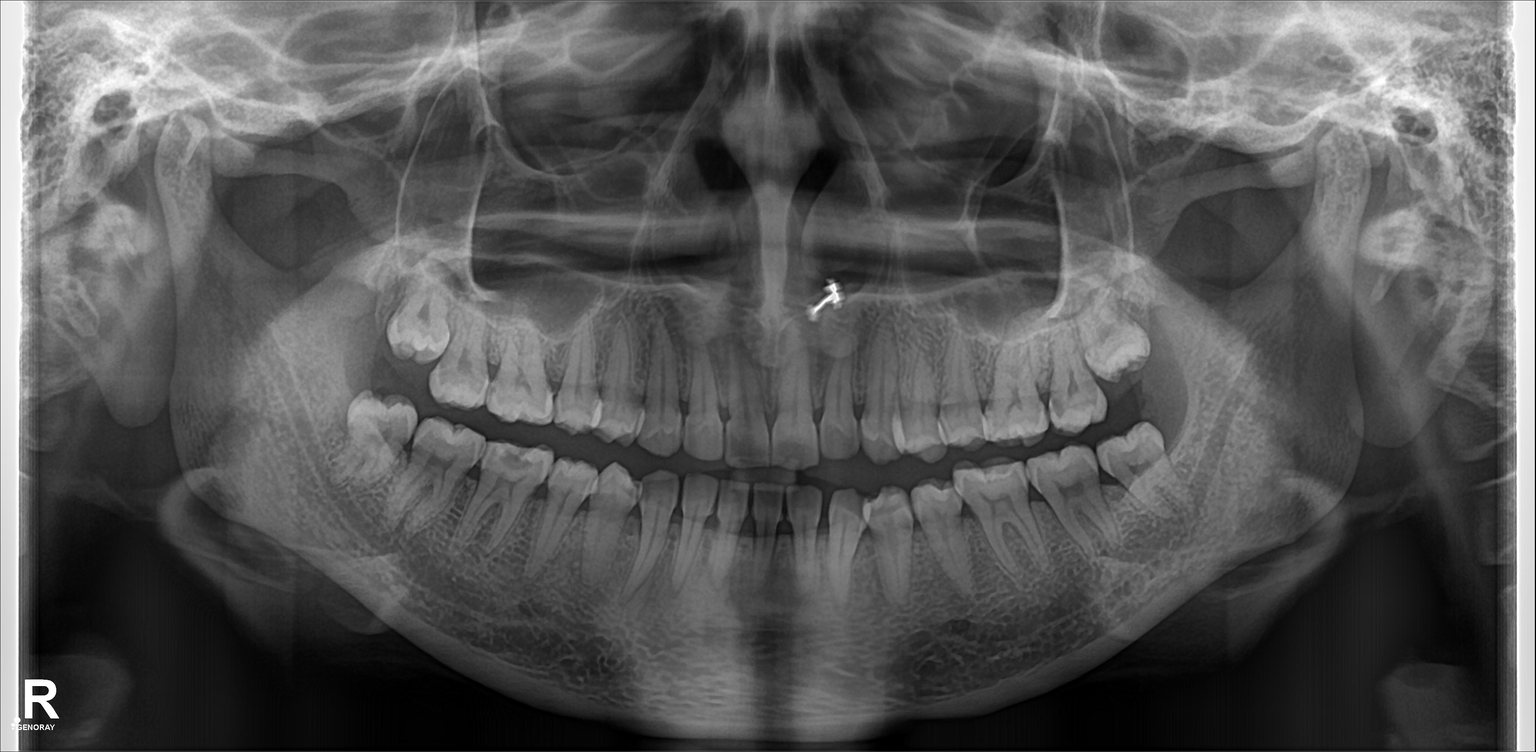Dental Caries: (415, 449, 459, 486)
Impacted Third Molar: (328, 391, 414, 471), (1106, 437, 1187, 500), (1084, 315, 1155, 375), (380, 300, 442, 355)
